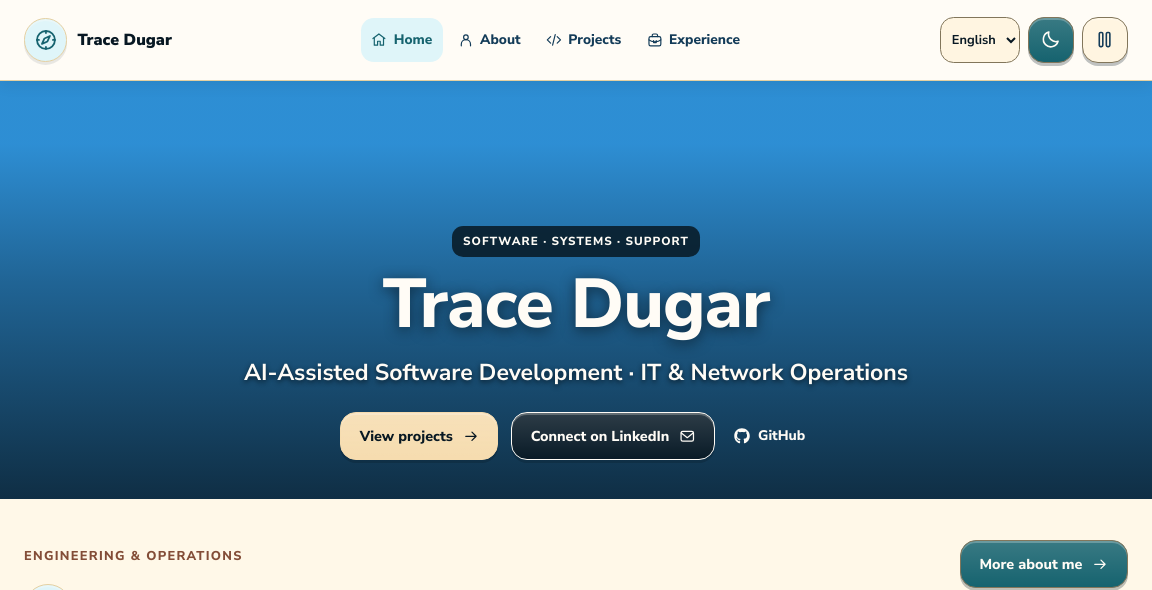
Scenario: case-study cards show localized project start months with machine-readable dates
Select "日本語" in the dropdown named "Language" at (980, 40), box [940,17,1020,63]
(page scrolled)
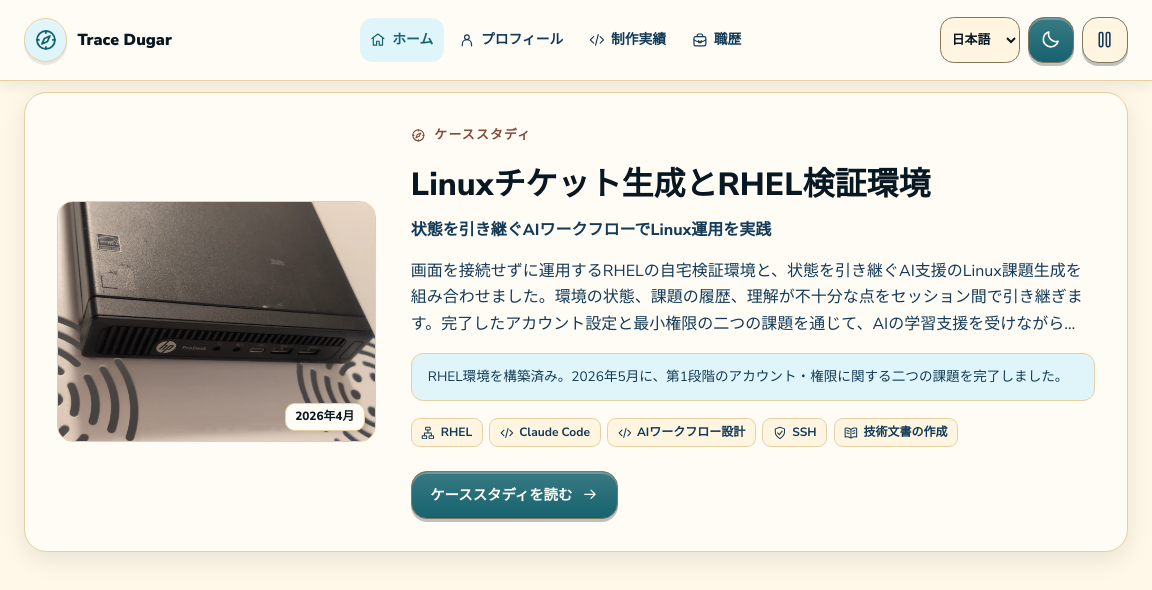
Result: the text "ケーススタディ" is shown at [411,126,531,144]
